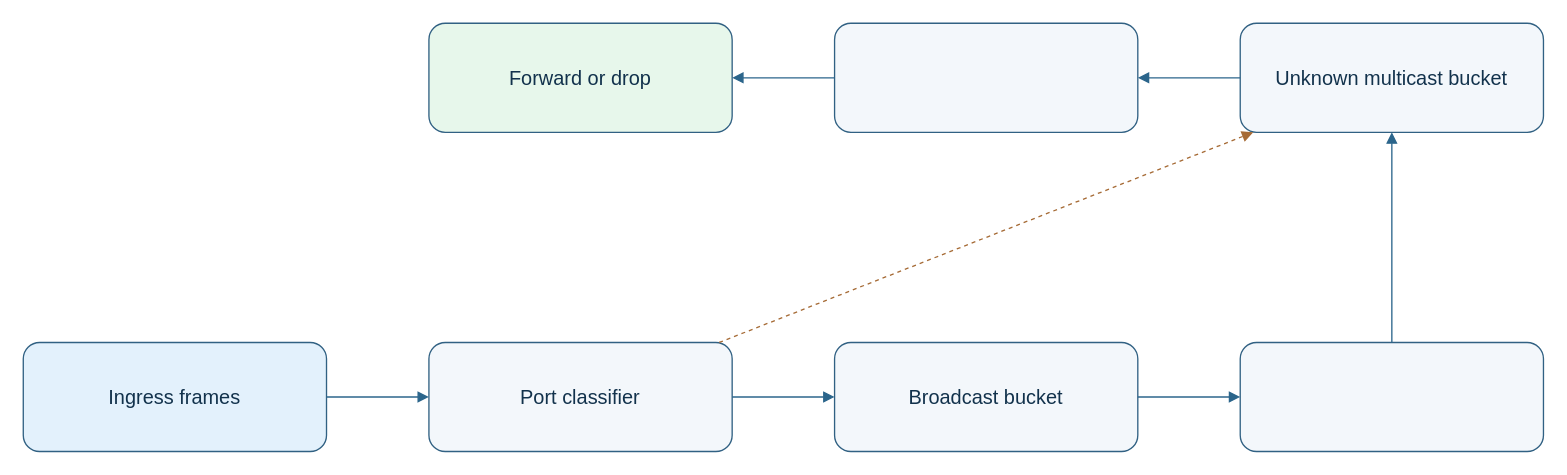
Image size: 1567x475. Some labels were removed from this diagram. Each missing label, with the centre of its shape:
"PPS/burst limiter" goes at point 985,77.
"Unknown unicast bucket" goes at point 1391,396.
